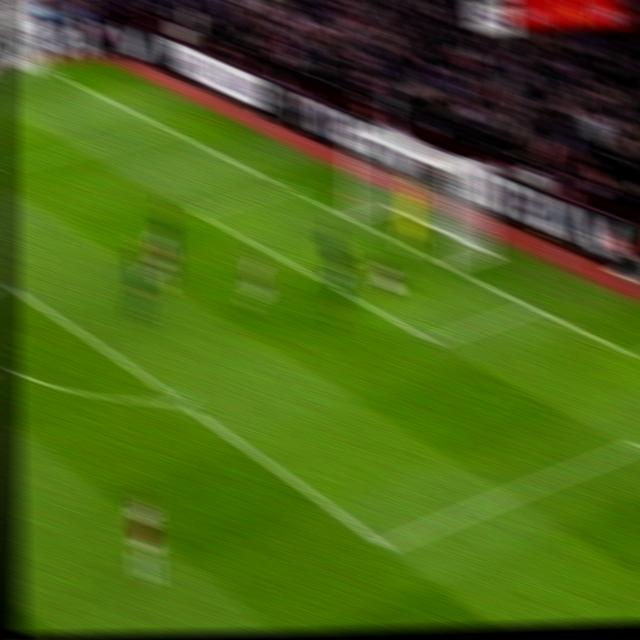bigarea_bottom_inner: (367, 525, 404, 563)
bigarea_top_outter: (156, 117, 186, 140)
bottom_arc_area_intersection: (161, 382, 196, 415)
corner: (33, 59, 64, 79)
smallarea_bottom_inner: (416, 320, 451, 358)
smallarea_bottom_outter: (516, 290, 548, 321)
smallarea_top_inner: (182, 196, 211, 224)
smallarea_top_outter: (273, 174, 303, 200)
